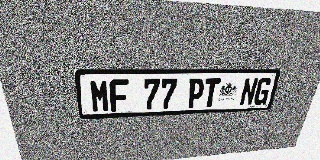7: (159, 78, 178, 109), (142, 79, 160, 110)
F: (109, 79, 128, 112)
G: (252, 77, 273, 105)
M: (89, 79, 110, 112)
N: (239, 77, 259, 106)
P: (186, 78, 205, 108)
T: (202, 78, 221, 107)
